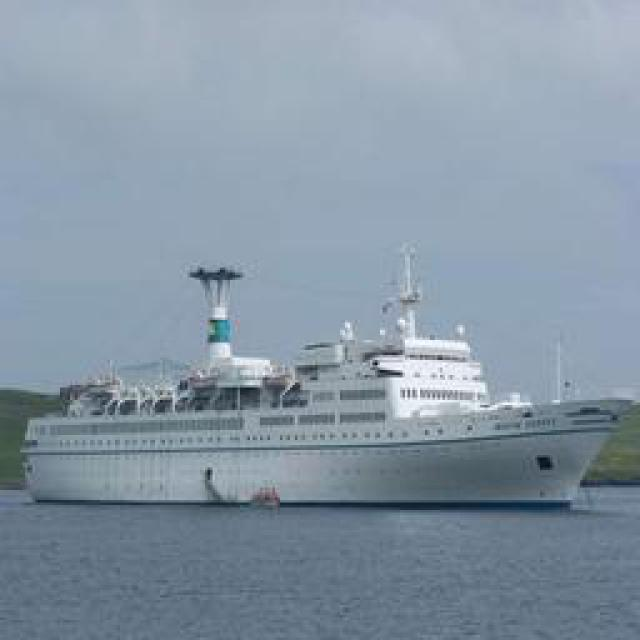Ship: (22, 239, 625, 504)
